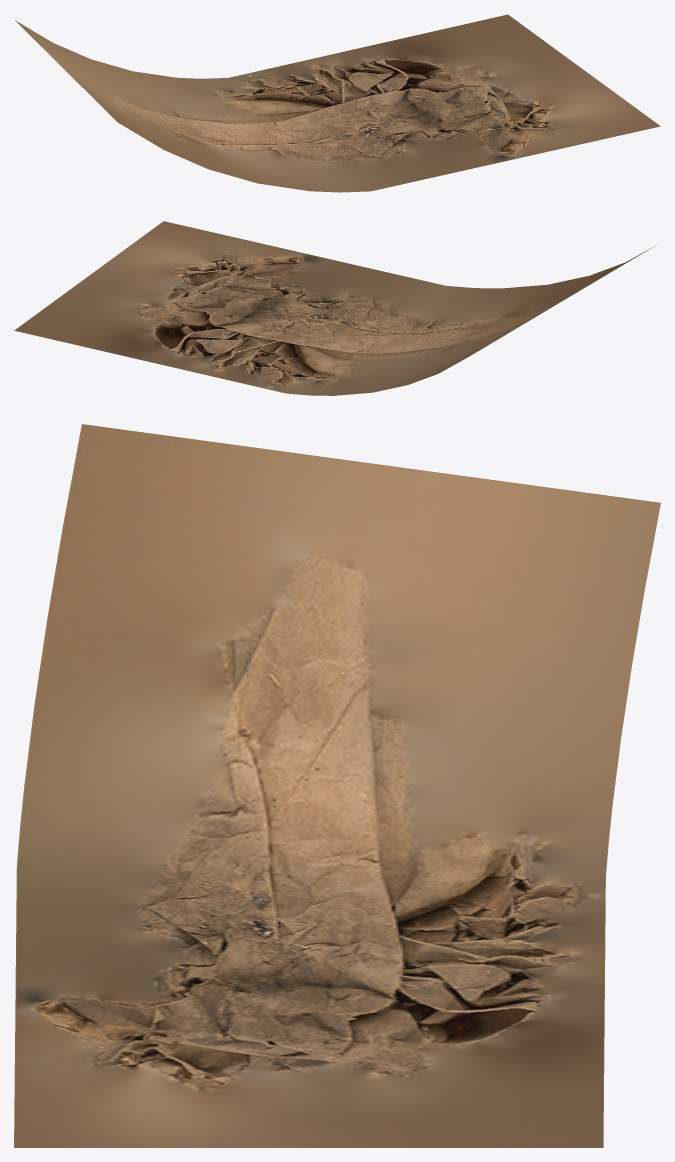
The model's file is sm_Paper_01_03.fbx.
3 views of the same model, one above another, from view 1: azimuth 30°, elevation 25°; view 2: azimuth 150°, elevation 25°; view 3: azimuth 270°, elevation 25° (orthographic). The views are drawn at different scales.
Visible parts, largest first — view 1: sm_Paper_01_03_LOD0; view 2: sm_Paper_01_03_LOD0; view 3: sm_Paper_01_03_LOD0.
Boxes of the visible parts, x1=… form: sm_Paper_01_03_LOD0: x1=15, y1=14, x2=660, y2=192; sm_Paper_01_03_LOD0: x1=14, y1=221, x2=655, y2=395; sm_Paper_01_03_LOD0: x1=14, y1=424, x2=660, y2=1147.
Bounding box in the file's own units: 47.91 × 26.51 × 10.38.
